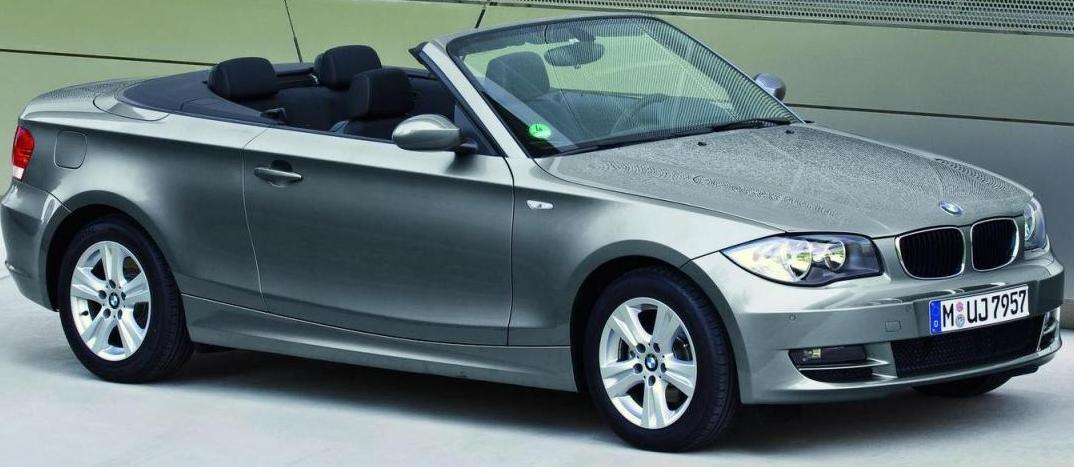front_view: (721, 201, 1067, 399)
headlight: (726, 212, 889, 296)
